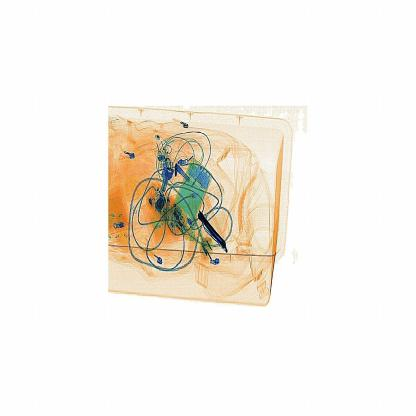knife: (195, 207, 236, 257)
